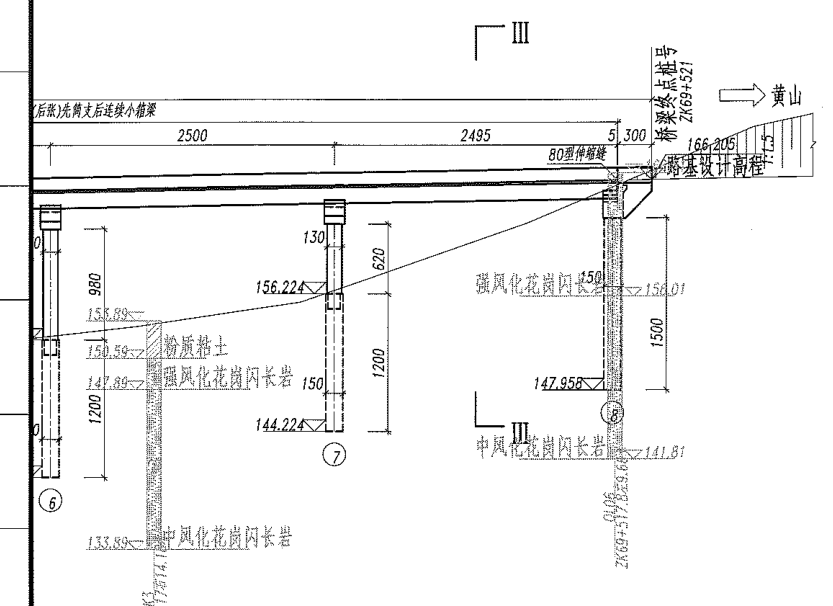C: (244, 193, 367, 473), (522, 182, 634, 432), (34, 202, 83, 516)
